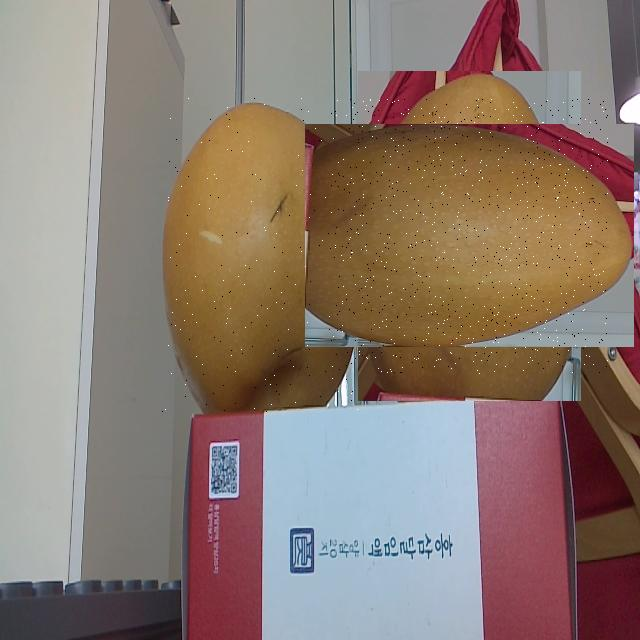pear: (331, 98, 608, 374), (162, 99, 358, 412)
